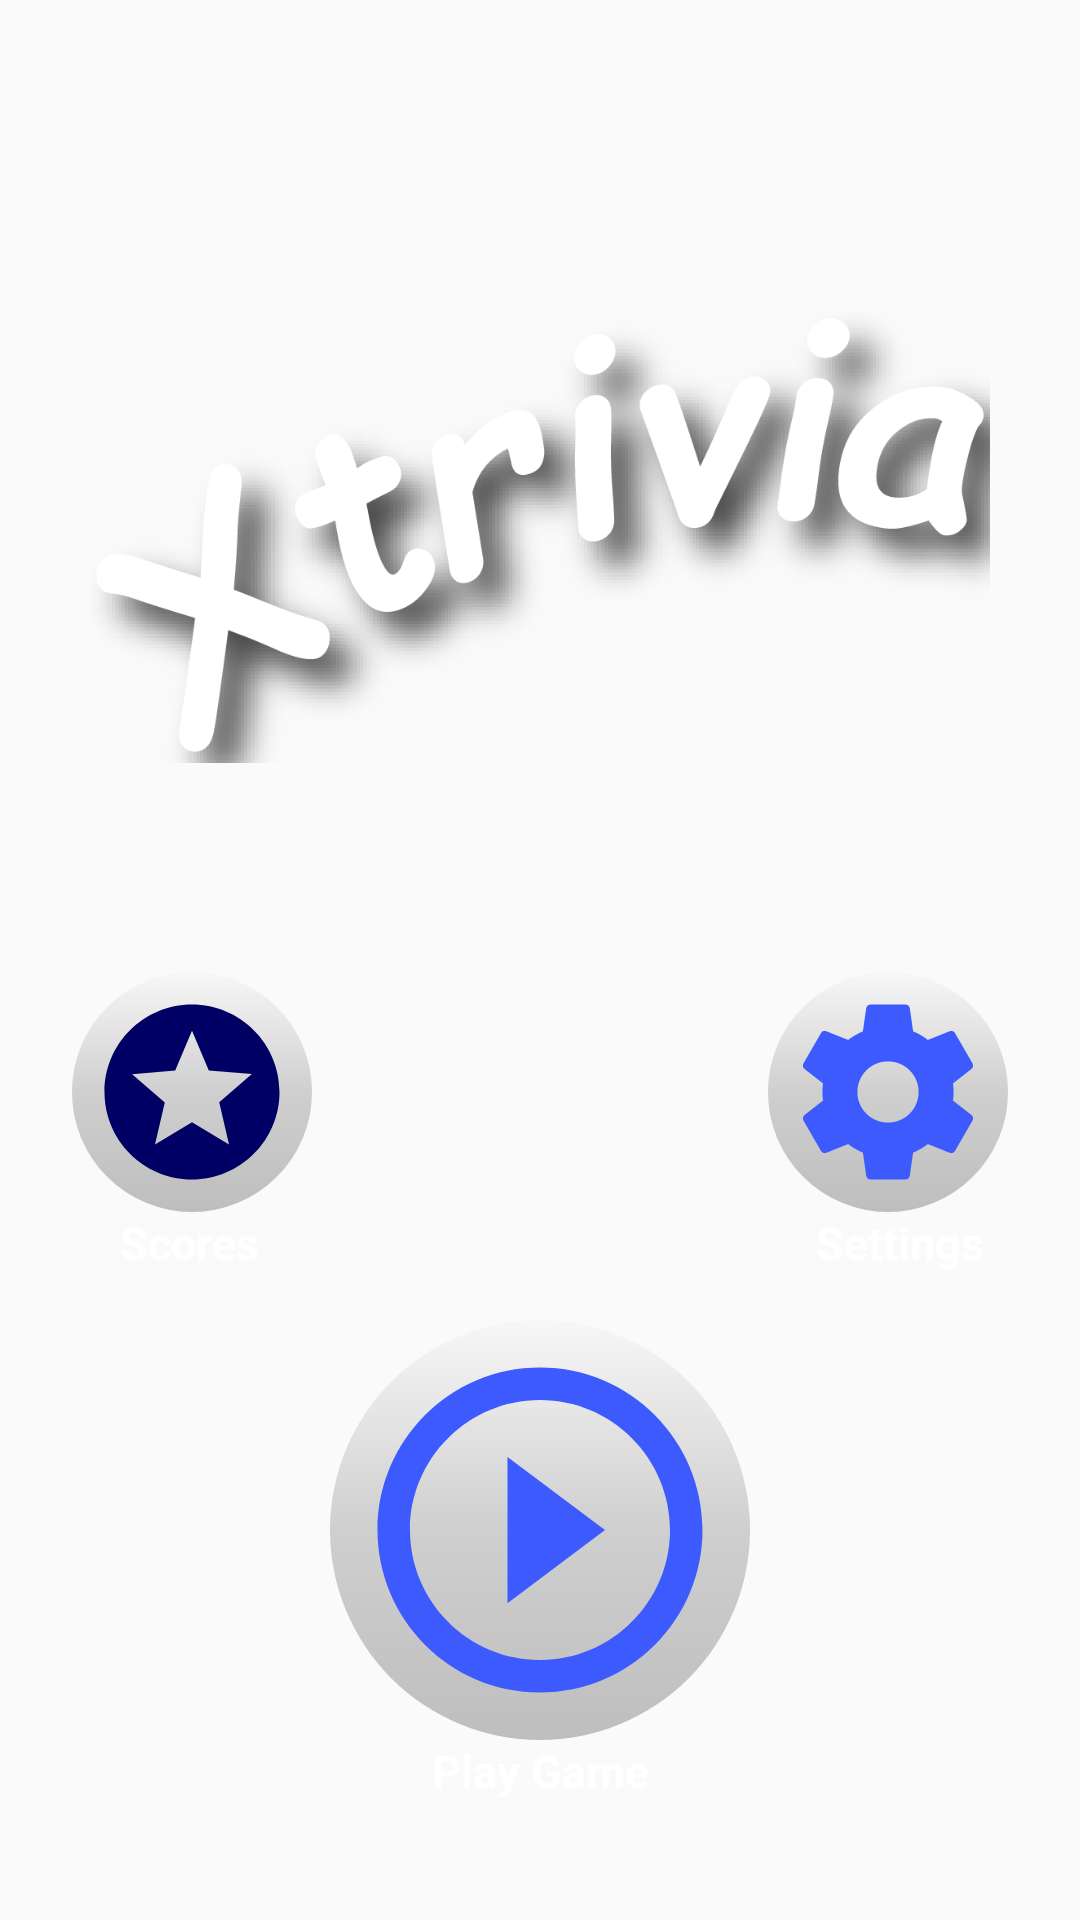

Where icons sit on this 1080x1920 app screen, as {"left": x1, "top": y1, "right": x2, "bottom": y2}:
stars home: {"left": 72, "top": 1004, "right": 312, "bottom": 1212}
